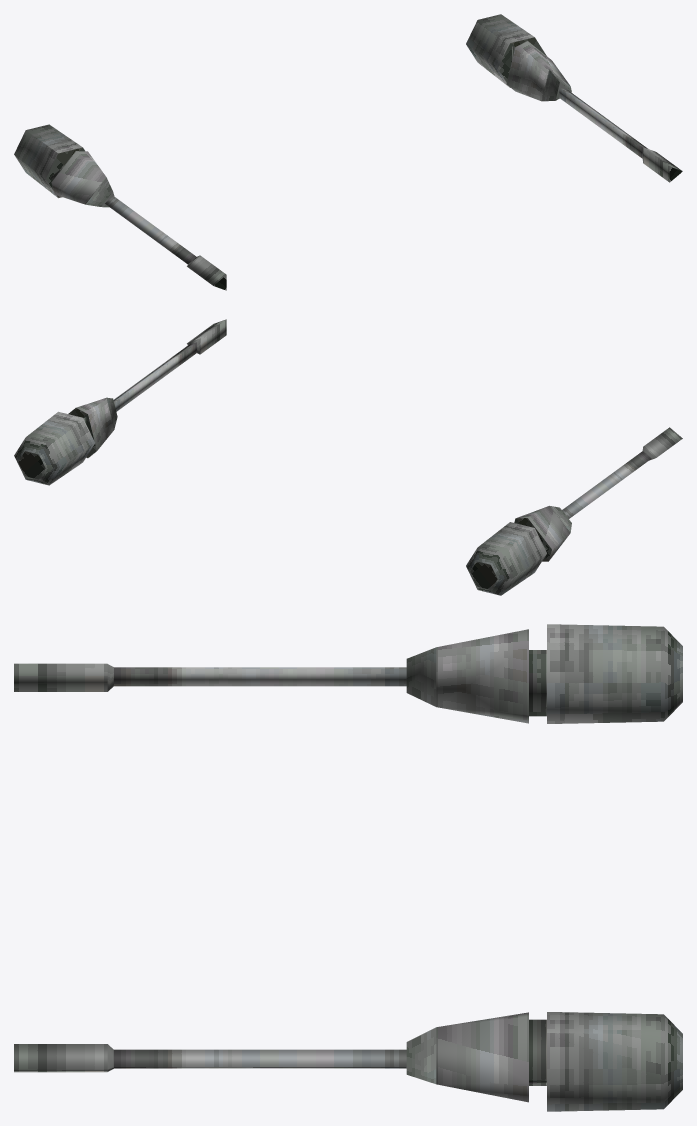
Rendered from black_sun_fighter_heavy_weapon3_s05_l2.fbx.
3 views of the same model, one above another, from view 1: azimuth 30°, elevation 25°; view 2: azimuth 150°, elevation 25°; view 3: azimuth 270°, elevation 25° (orthographic). The views are drawn at different scales.
Parts seen in each view (by area): view 1: mesh_node; view 2: mesh_node; view 3: mesh_node.
Part boxes in pixels (box(x1,y1,x2,y2)): mesh_node: box(14, 14, 682, 290); mesh_node: box(14, 319, 682, 595); mesh_node: box(14, 624, 682, 1111).
Size of the model in its own units: 13.27 by 1.21 by 8.72.
1 material, 1 textured.
